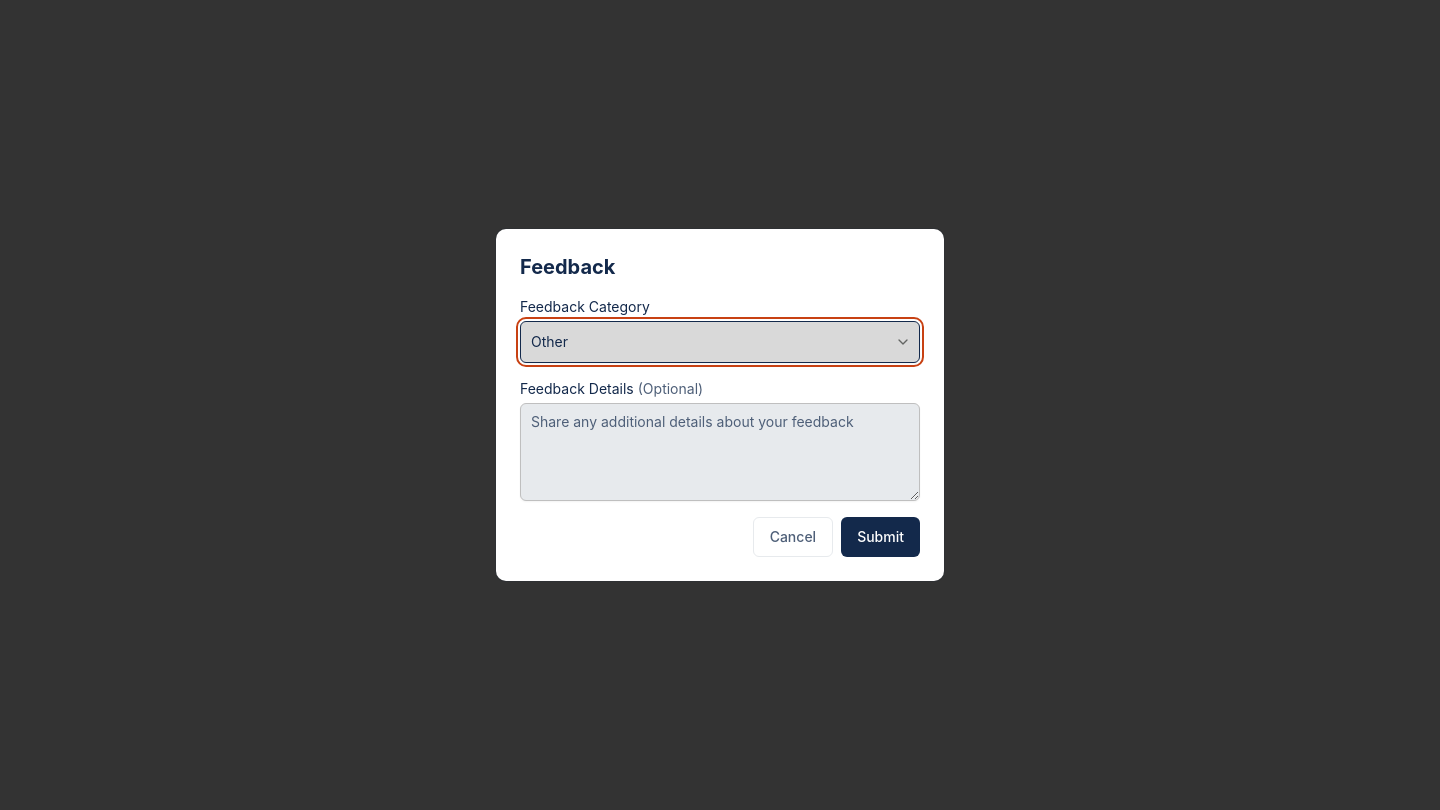
Scenario: FeedbackModal › renders all feedback category options
The image size is (1440, 810).
Step 1. Click the dropdown named "Feedback category select" → {"x": 550, "y": 342}, box [520,321,920,363]
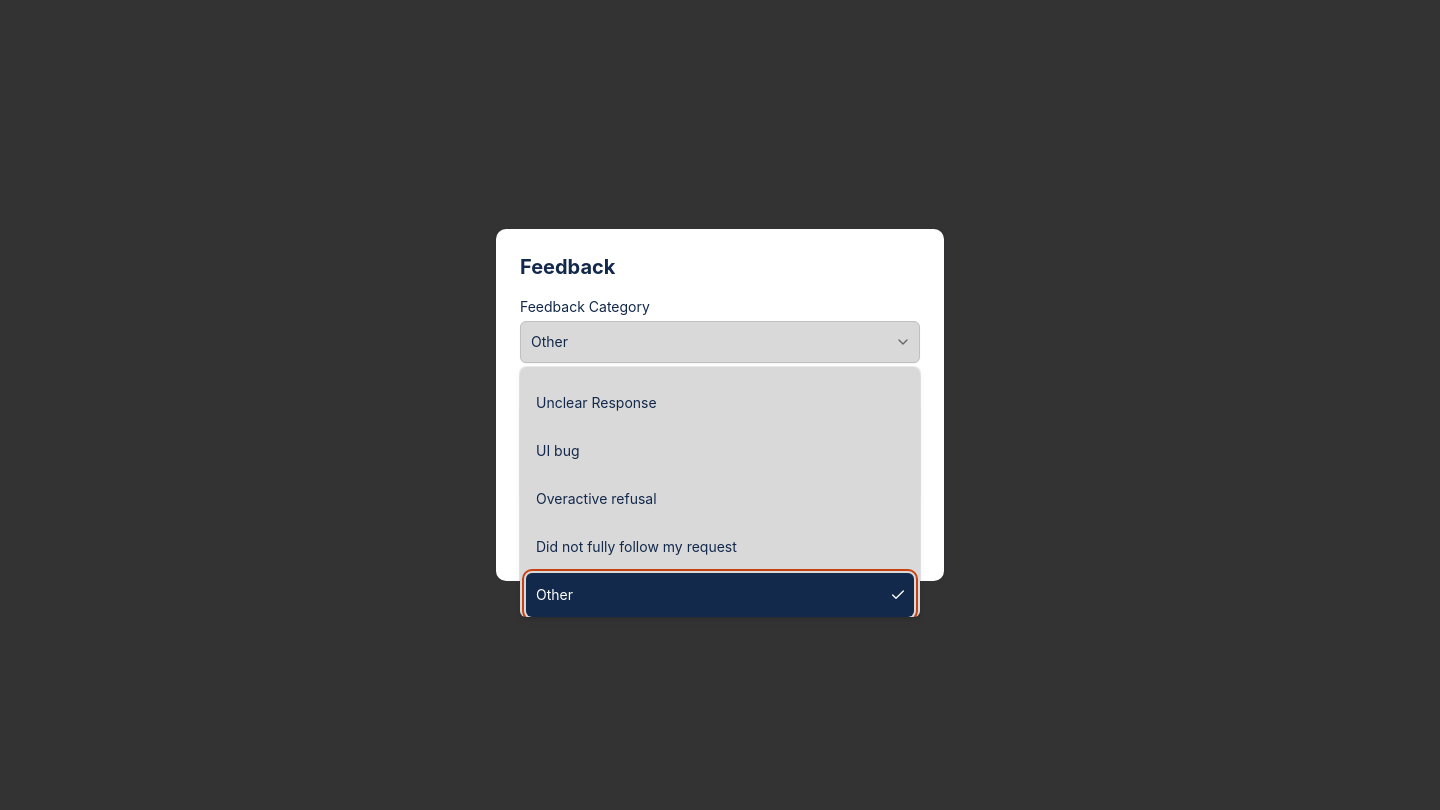
Expected: the text "Unclear Response" is shown, [536,394,657,411]
Expected: the text "UI bug" is shown, [536,442,580,459]
Expected: the text "Overactive refusal" is shown, [536,490,657,507]
